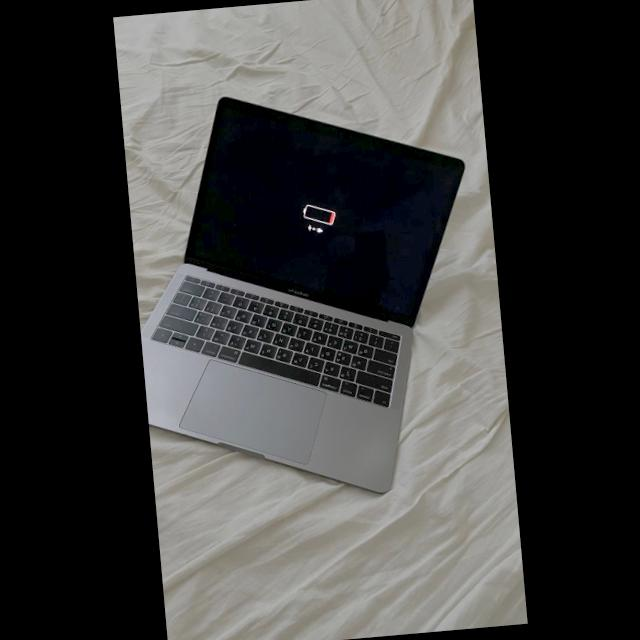laptop: (141, 96, 464, 492)
